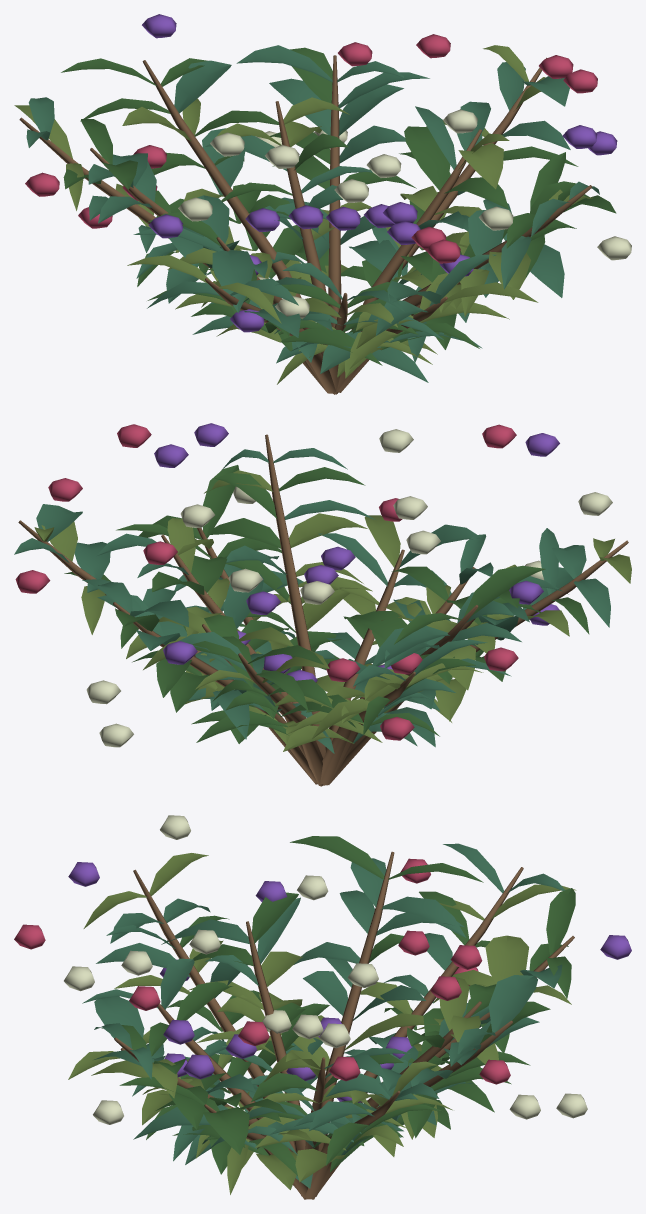
The model's file is sc_heather.glb.
3 views of the same model, one above another, from view 1: azimuth 30°, elevation 25°; view 2: azimuth 150°, elevation 25°; view 3: azimuth 270°, elevation 25° (orthographic). The views are drawn at different scales.
Visible parts, largest first — view 1: sc_heather; view 2: sc_heather; view 3: sc_heather.
Part boxes in pixels (<box>): sc_heather: <box>14,14,631,394</box>; sc_heather: <box>14,423,631,786</box>; sc_heather: <box>14,815,631,1199</box>.
Bounding box in the file's own units: 1.07 × 0.5741 × 1.13.
